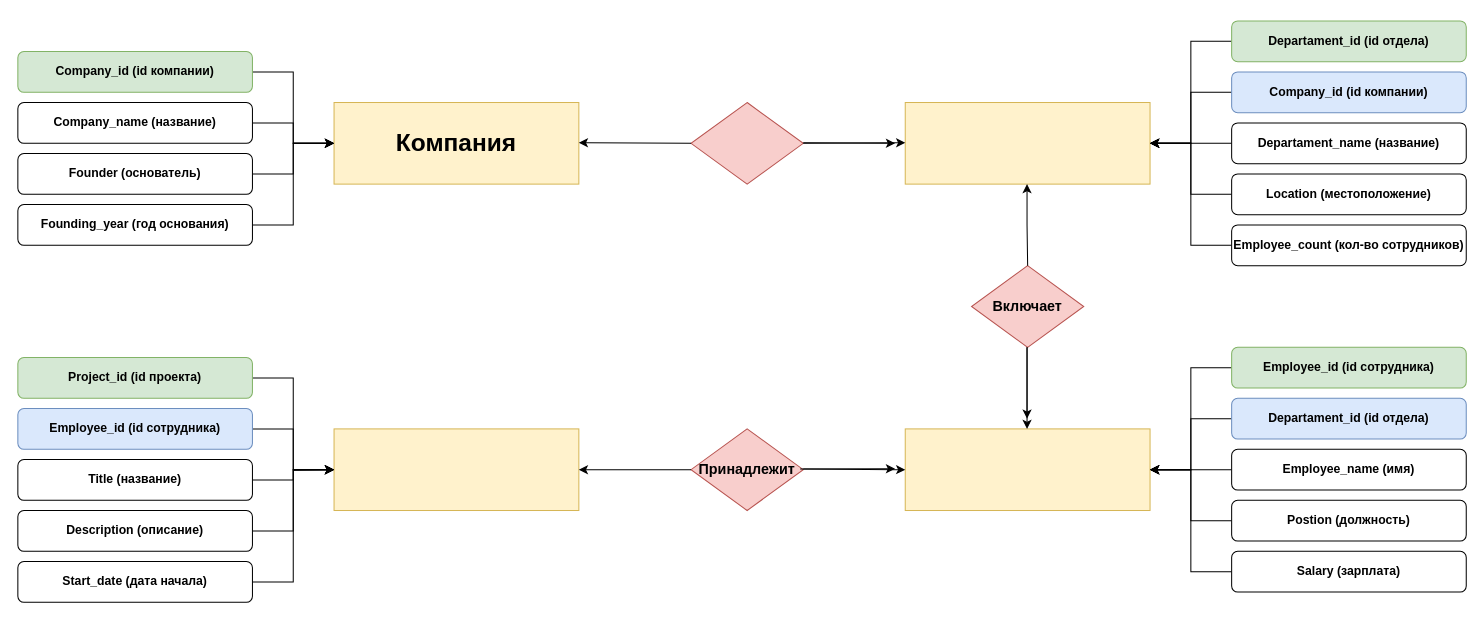
This 1484x622 diagram has some shape labels left out. Each missing label, with the centre of its shape:
"Имеет" goes at (x=746, y=142).
"Отдел" goes at (x=1027, y=142).
"Проект" goes at (x=456, y=469).
"Сотрудники" goes at (x=1027, y=469).
